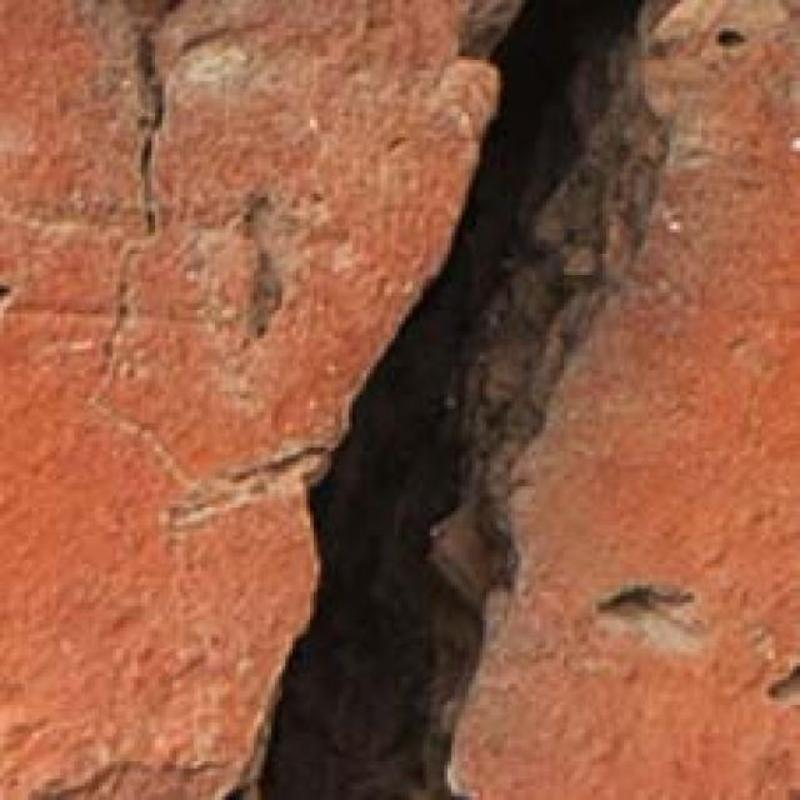crack: (261, 0, 641, 799), (89, 32, 179, 384)
